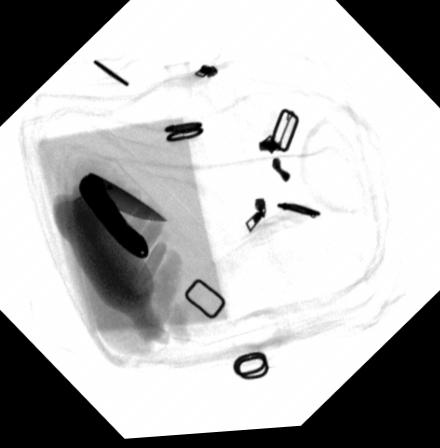Knife: (77, 172, 170, 261)
